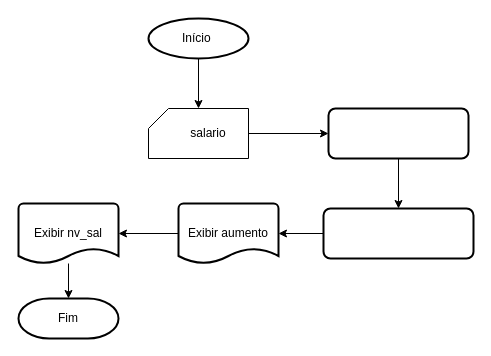
The diagram is 491 pixels wide and 356 high, and some of its shapes have lost their labels. The shapes that lost their labels are listed below. From the top down, each one's box as (x1, y1, x2, y2) in pixels, then its label:
(327, 107, 469, 159): aumento = salario x 0.15
(322, 207, 474, 259): nv_sal = salario + aumento
